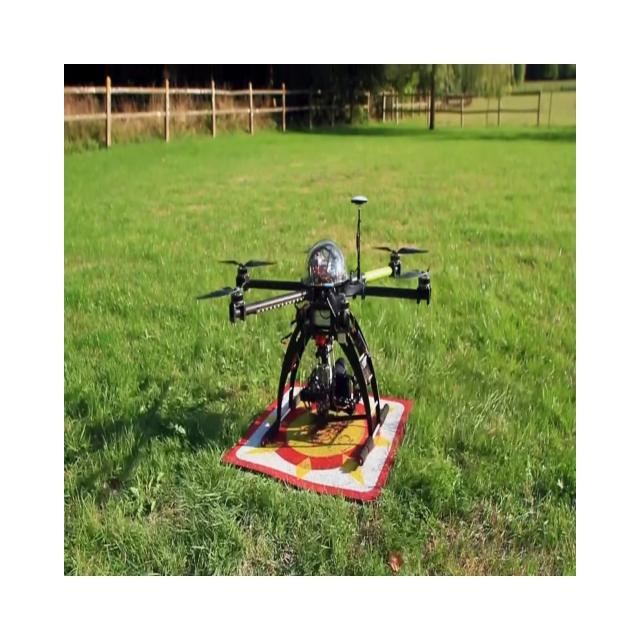drone: (195, 194, 432, 455)
